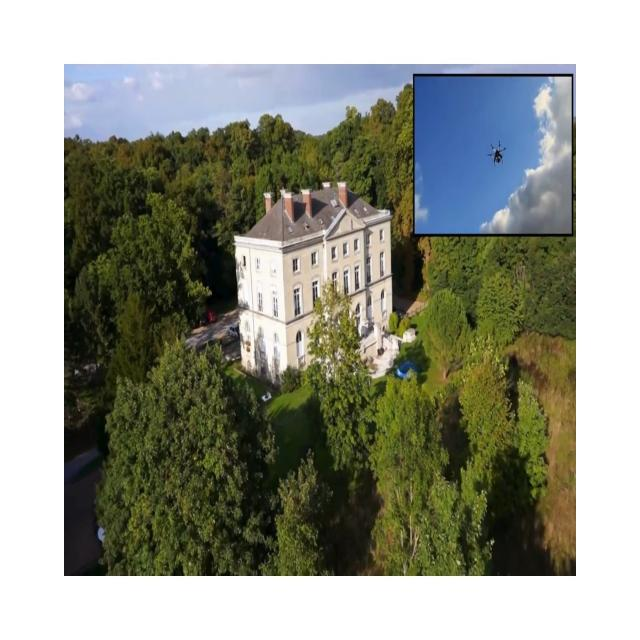drone: (487, 139, 506, 167)
